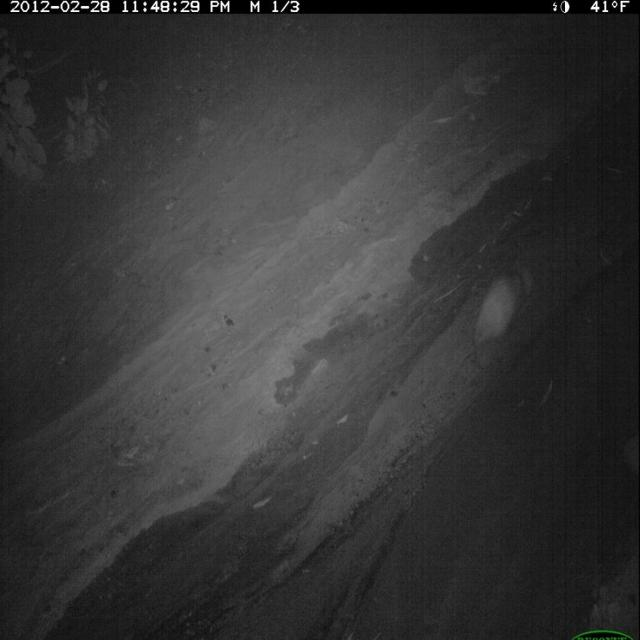opossum: (455, 257, 537, 379)
